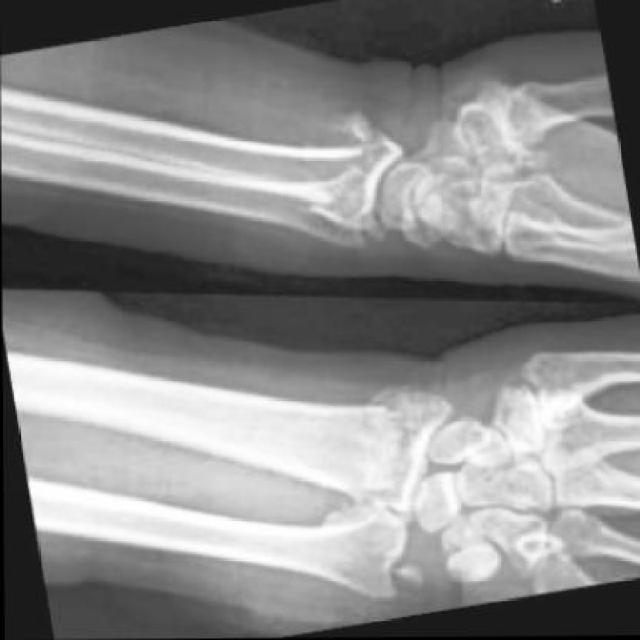Fracture: (297, 103, 409, 245), (330, 382, 434, 526), (390, 563, 428, 599), (351, 220, 387, 257)
